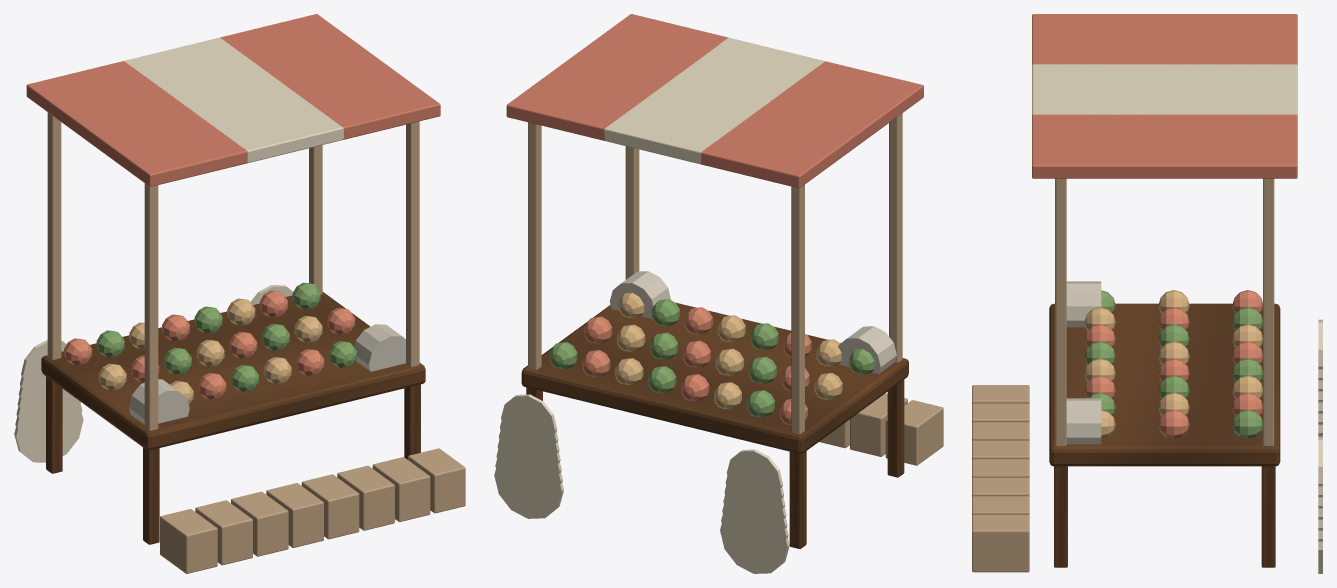
File: shire_market_craftwork.glb
3 renders of one model, left to right at view 1: azimuth 30°, elevation 25°; view 2: azimuth 150°, elevation 25°; view 3: azimuth 270°, elevation 25°, orthographic. The views are drawn at different scales.
Visible parts, largest first — view 1: Crafted_weathered_oak, Crafted_festival_madder_cloth, Crafted_oak_grain, Crafted_woven_linen, Crafted_orchard_red_apples, Crafted_garden_green, Crafted_hand_baked_bread, Crafted_rough_stone; view 2: Crafted_festival_madder_cloth, Crafted_woven_linen, Crafted_oak_grain, Crafted_weathered_oak, Crafted_garden_green, Crafted_hand_baked_bread, Crafted_orchard_red_apples, Crafted_rough_stone; view 3: Crafted_festival_madder_cloth, Crafted_oak_grain, Crafted_weathered_oak, Crafted_woven_linen, Crafted_orchard_red_apples, Crafted_hand_baked_bread, Crafted_garden_green, Crafted_rough_stone.
Boxes of the visible parts, x1,y1,x2,y2 form: Crafted_weathered_oak: (47,112,465,573); Crafted_festival_madder_cloth: (26,14,440,186); Crafted_oak_grain: (41,292,425,544); Crafted_woven_linen: (14,37,343,462); Crafted_orchard_red_apples: (64,290,355,399); Crafted_garden_green: (96,282,356,391); Crafted_hand_baked_bread: (98,298,322,404); Crafted_rough_stone: (129,324,405,424); Crafted_festival_madder_cloth: (506,14,923,188); Crafted_woven_linen: (494,37,824,573); Crafted_oak_grain: (521,302,908,548); Crafted_weathered_oak: (528,113,943,465); Crafted_garden_green: (549,299,874,417); Crafted_hand_baked_bread: (615,292,842,409); Crafted_orchard_red_apples: (582,307,811,424); Crafted_rough_stone: (609,271,896,374); Crafted_festival_madder_cloth: (1032,14,1297,178); Crafted_oak_grain: (1049,303,1280,567); Crafted_weathered_oak: (972,178,1274,572); Crafted_woven_linen: (1032,64,1322,573); Crafted_orchard_red_apples: (1084,290,1262,438); Crafted_hand_baked_bread: (1084,290,1262,438); Crafted_garden_green: (1084,290,1262,438); Crafted_rough_stone: (1066,281,1101,444).
Bounding box in the file's own units: 3.12 × 4.03 × 3.04.
8 materials, 1 textured.
